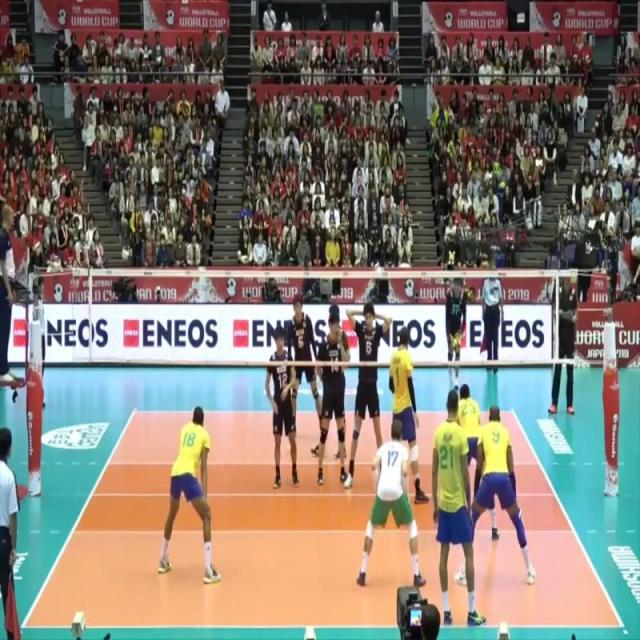volleyball: (451, 332, 464, 356)
